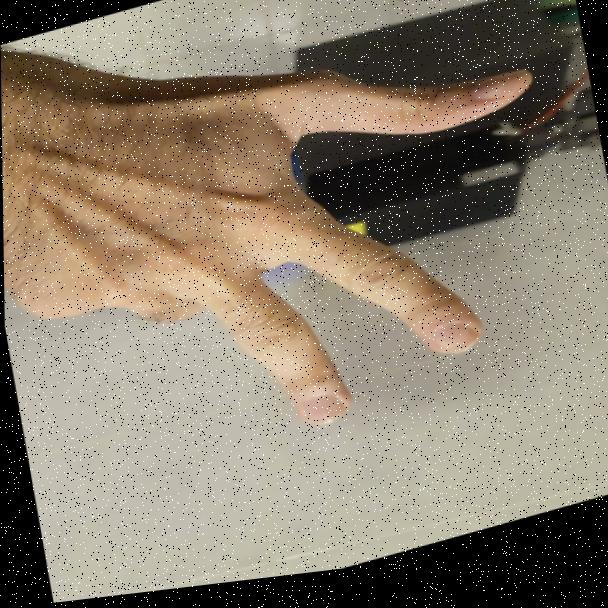three: (5, 12, 584, 501)
